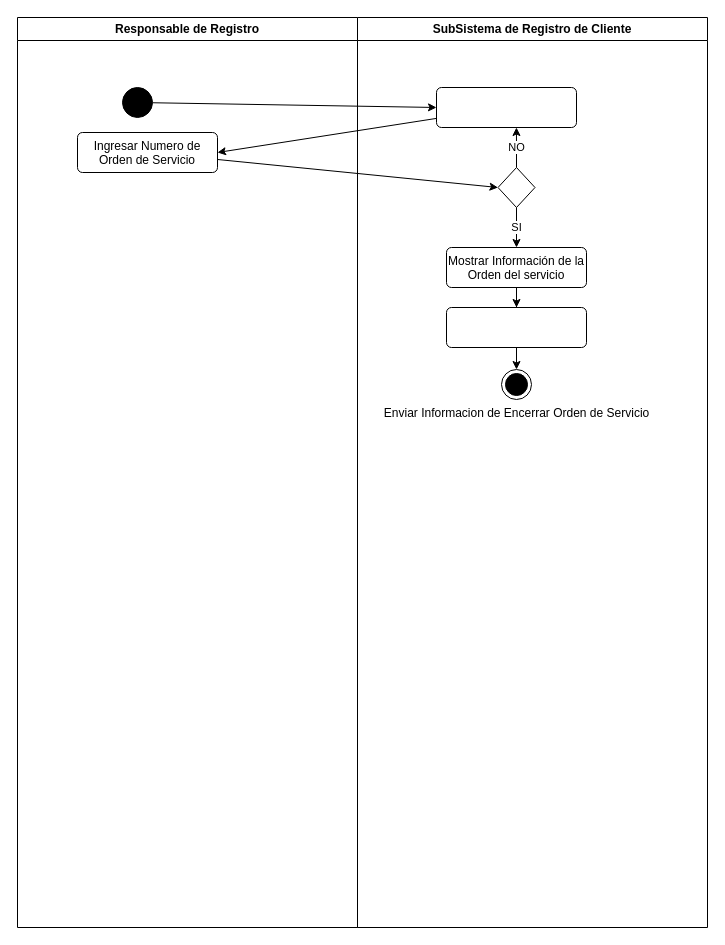
This 725x945 diagram has some shape labels left out. The box of each missing label's shape, as (x1, y1, x2, y2) in pixels:
Cerrar Orden de Servicio: (446, 306, 586, 348)
Encerrar Orden de Servicio: (122, 86, 152, 118)
Solicita Numero de Orden de Servicio: (436, 86, 576, 128)
